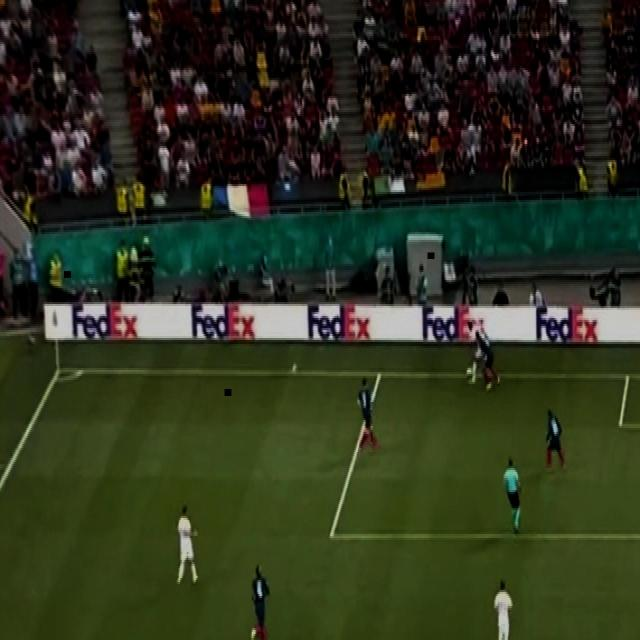ball: (466, 366, 473, 378)
player-white: (472, 321, 500, 392), (177, 504, 199, 586), (469, 318, 493, 386), (250, 564, 270, 640), (358, 376, 378, 450), (504, 458, 524, 532), (544, 408, 566, 472), (492, 578, 512, 640)
